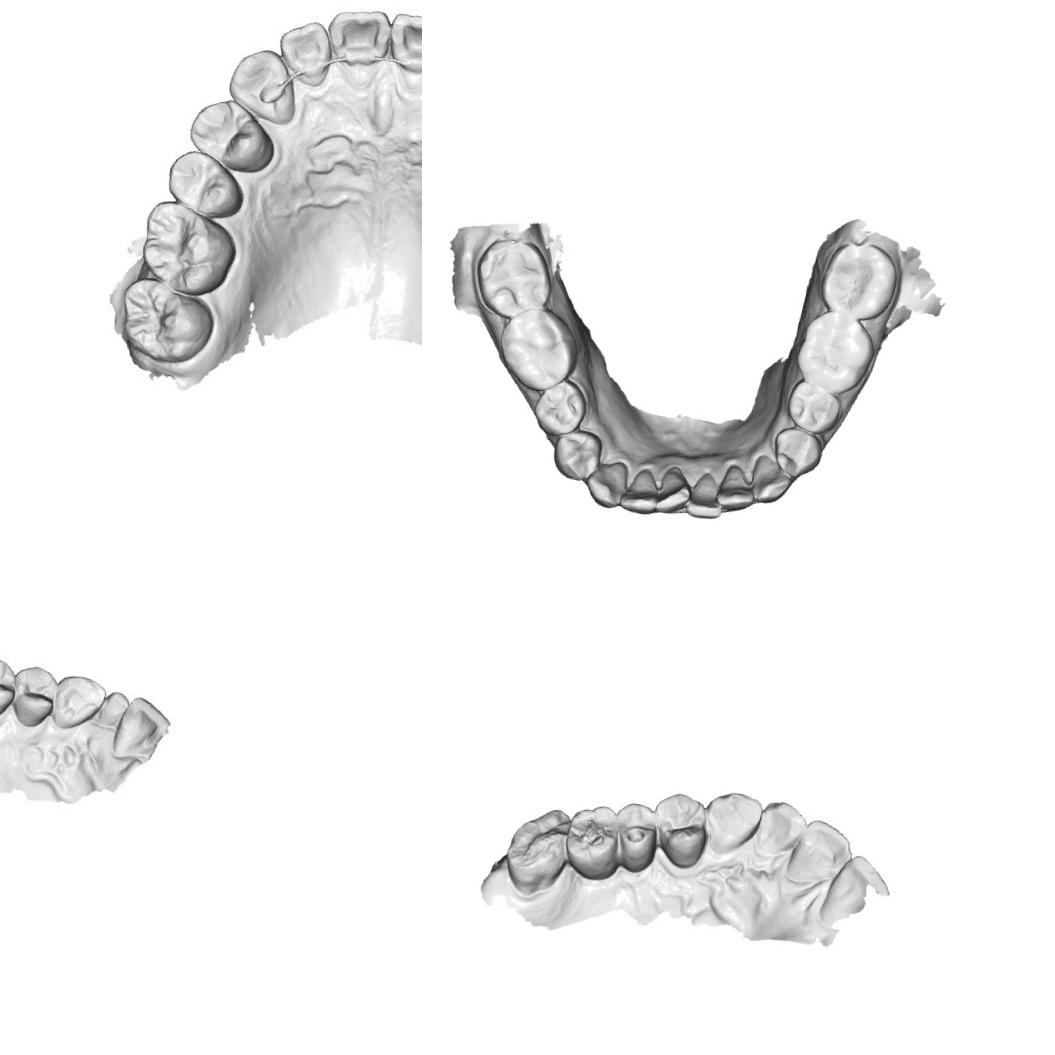canine: (222, 42, 305, 128), (698, 785, 764, 861), (48, 667, 110, 735), (581, 455, 631, 512), (747, 452, 796, 508)
incisor: (815, 847, 894, 931), (780, 813, 860, 894), (321, 2, 394, 72), (271, 14, 337, 88), (109, 693, 173, 764), (750, 796, 812, 864), (382, 9, 422, 80), (713, 460, 761, 516), (616, 463, 664, 516), (652, 462, 696, 517), (684, 468, 730, 520), (95, 684, 134, 730)
molar: (134, 196, 243, 302), (111, 272, 220, 370), (491, 302, 586, 397), (468, 231, 560, 324), (814, 235, 903, 326), (791, 306, 879, 398), (497, 799, 574, 901), (558, 798, 626, 884)
premolar: (183, 92, 282, 178), (162, 146, 250, 224), (644, 787, 714, 872), (606, 798, 665, 877), (528, 374, 590, 441), (7, 658, 62, 731), (782, 376, 844, 435), (767, 422, 827, 482), (548, 424, 606, 484), (0, 653, 21, 724)
